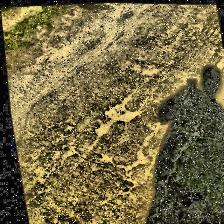pothole: (80, 87, 146, 139)
